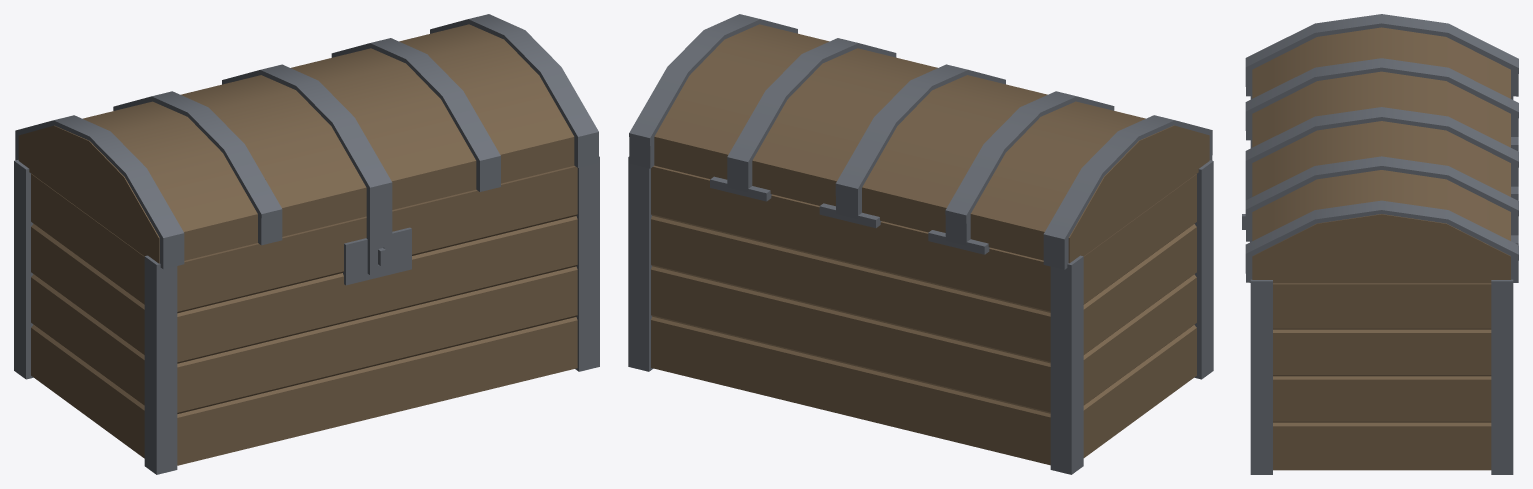
Rendered from LootChest.fbx.
3 views of the same model, side by side, from view 1: azimuth 30°, elevation 25°; view 2: azimuth 150°, elevation 25°; view 3: azimuth 270°, elevation 25° (orthographic). The views are drawn at different scales.
Parts seen in each view (by area): view 1: loot_chest_bottom, loot_chest_top; view 2: loot_chest_bottom, loot_chest_top; view 3: loot_chest_top, loot_chest_bottom.
Boxes of the visible parts, x1,y1,x2,y2 form: loot_chest_bottom: (14,156,599,474); loot_chest_top: (15,14,598,275); loot_chest_bottom: (628,156,1213,474); loot_chest_top: (629,14,1212,269); loot_chest_top: (1245,14,1518,283); loot_chest_bottom: (1242,96,1513,474).
Bounding box in the file's own units: 125 × 77.07 × 73.45.
